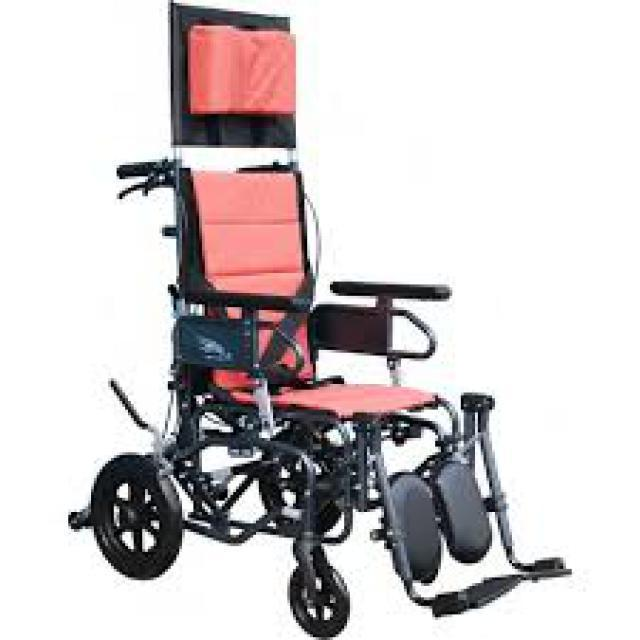wheelchairs: (99, 7, 566, 635)
